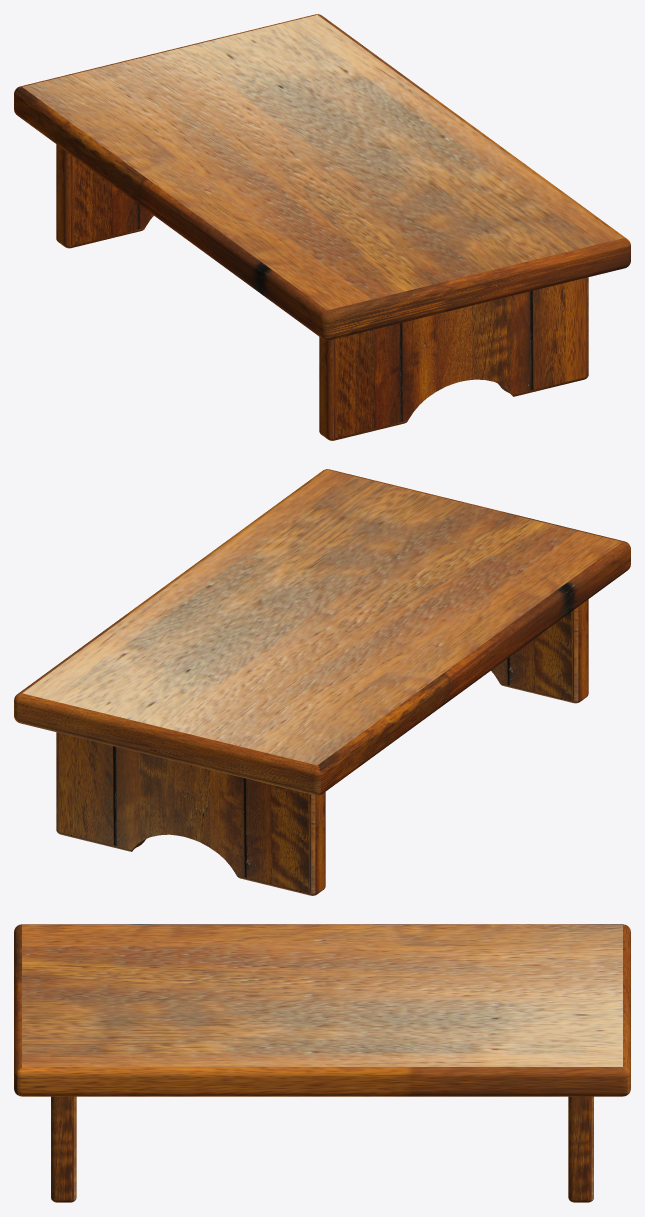
Rendered from table.fbx.
The picture shows the model from 3 angles, top to bottom: view 1: azimuth 30°, elevation 25°; view 2: azimuth 150°, elevation 25°; view 3: azimuth 270°, elevation 25°; orthographic projection.
Visible parts, largest first — view 1: pCube1, pCube8, pCube5; view 2: pCube1, pCube5, pCube8; view 3: pCube1, pCube5, pCube8.
Boxes of the visible parts, x1=… form: pCube1: x1=14, y1=14, x2=630, y2=340; pCube8: x1=319, y1=277, x2=588, y2=440; pCube5: x1=56, y1=144, x2=153, y2=248; pCube1: x1=14, y1=469, x2=630, y2=795; pCube5: x1=56, y1=732, x2=325, y2=895; pCube8: x1=491, y1=599, x2=588, y2=703; pCube1: x1=14, y1=924, x2=630, y2=1096; pCube5: x1=568, y1=1096, x2=593, y2=1202; pCube8: x1=51, y1=1096, x2=76, y2=1202.
Size of the model in its own units: 49.05 by 22.47 by 86.08.
